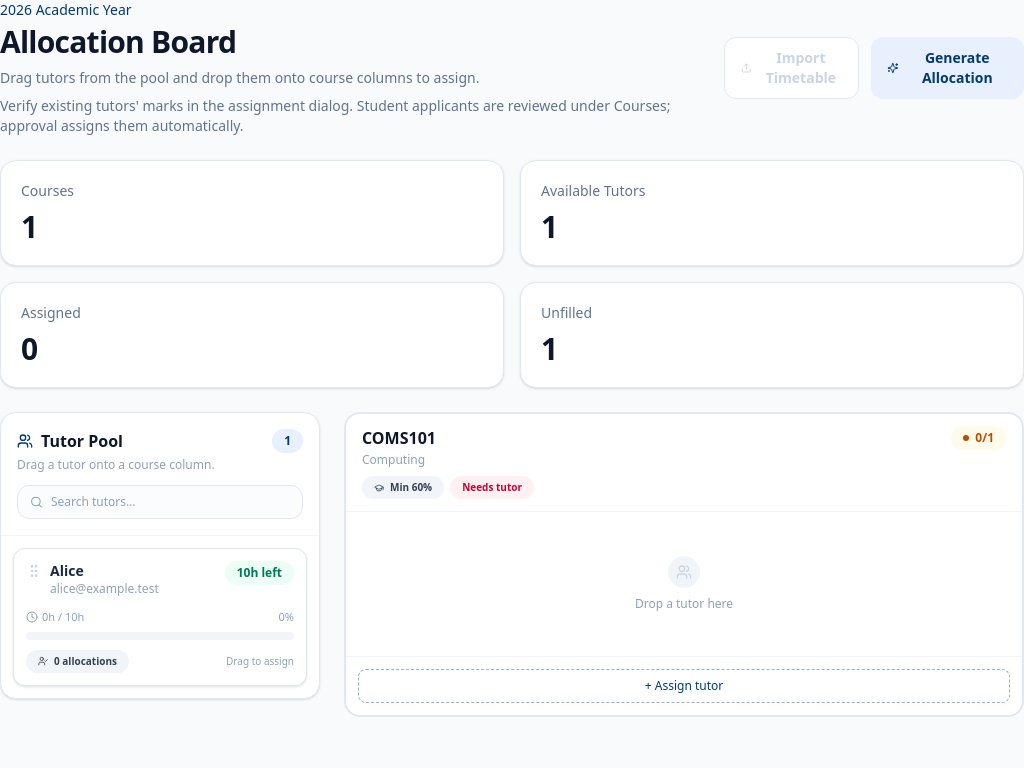
it: Allocation board verification › records a mark for a tutor who has never submitted one
Click the button "+ Assign tutor".
click(684, 686)  # box [358, 669, 1010, 703]
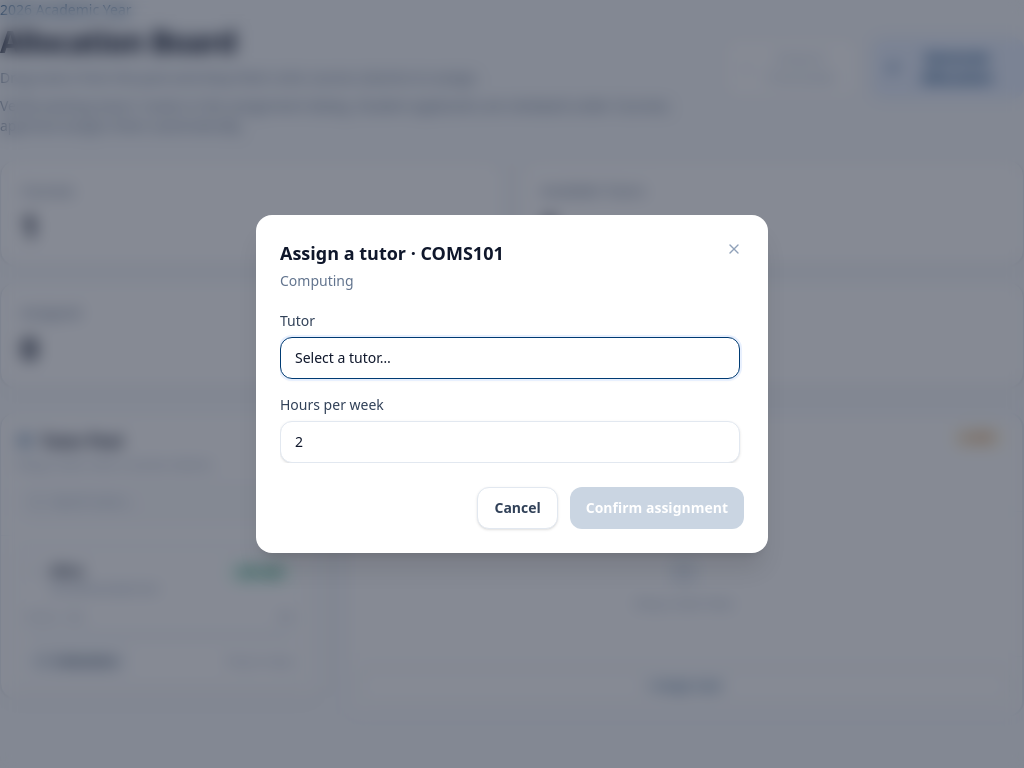
Select "Alice" in the dropdown labelled "Tutor" at (510, 358), box [280, 337, 740, 379]
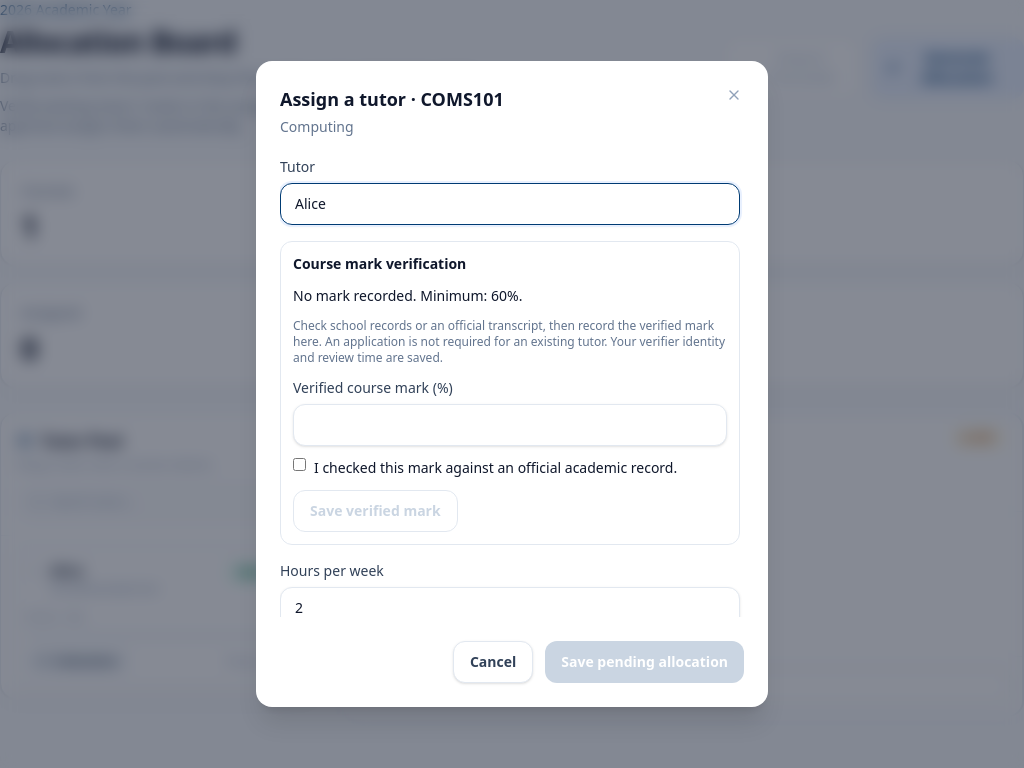
Now the text "No mark recorded. Minimum: 60%." is shown, box [293, 286, 522, 305]
Type "75" into the number field labelled "Verified course mark (%)".
click(510, 425); type("75")  # box [293, 404, 727, 446]
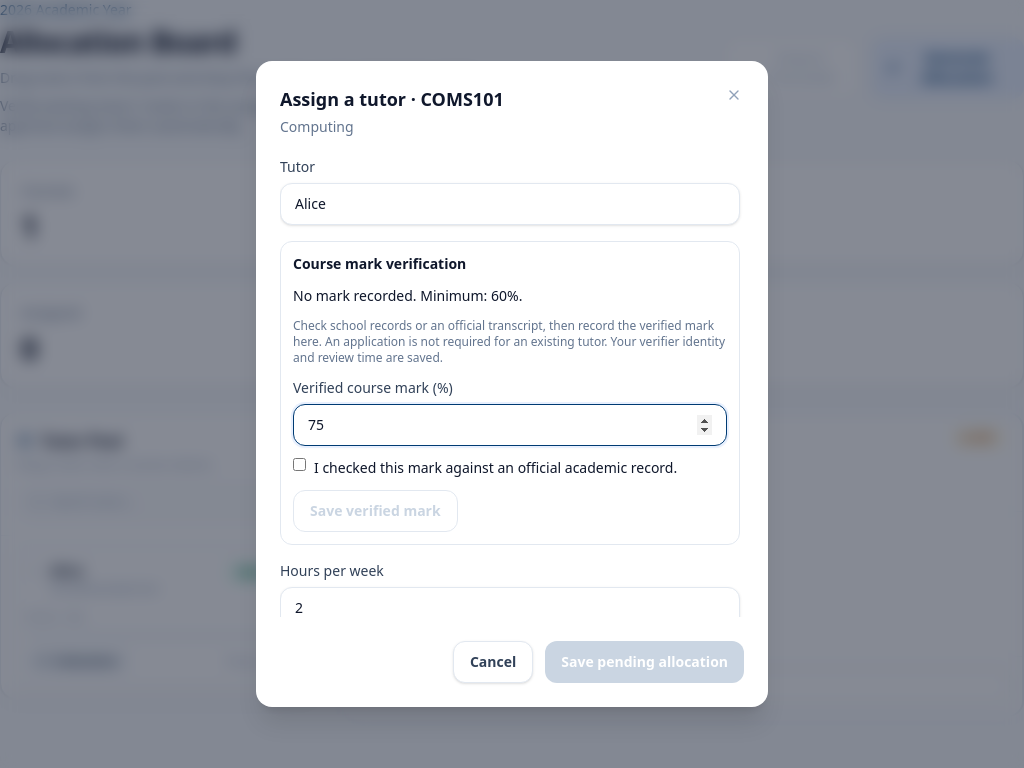
Click the checkbox.
click(300, 464)  # box [293, 458, 306, 471]
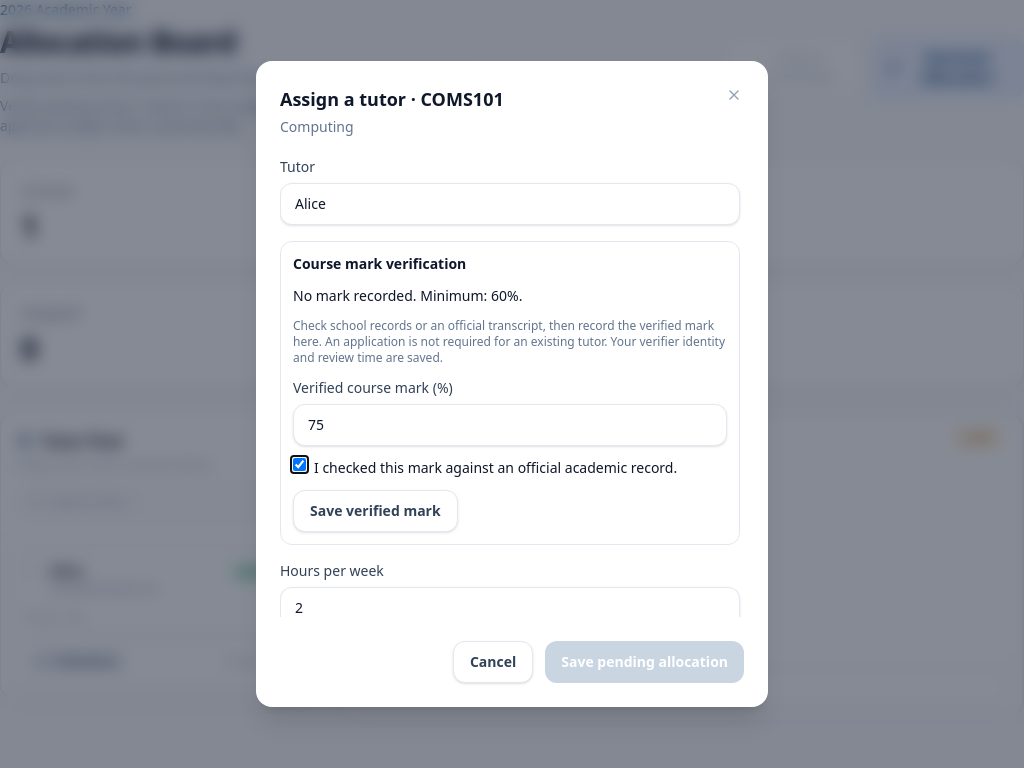
Click the button "Save verified mark".
click(375, 511)  # box [293, 490, 458, 532]
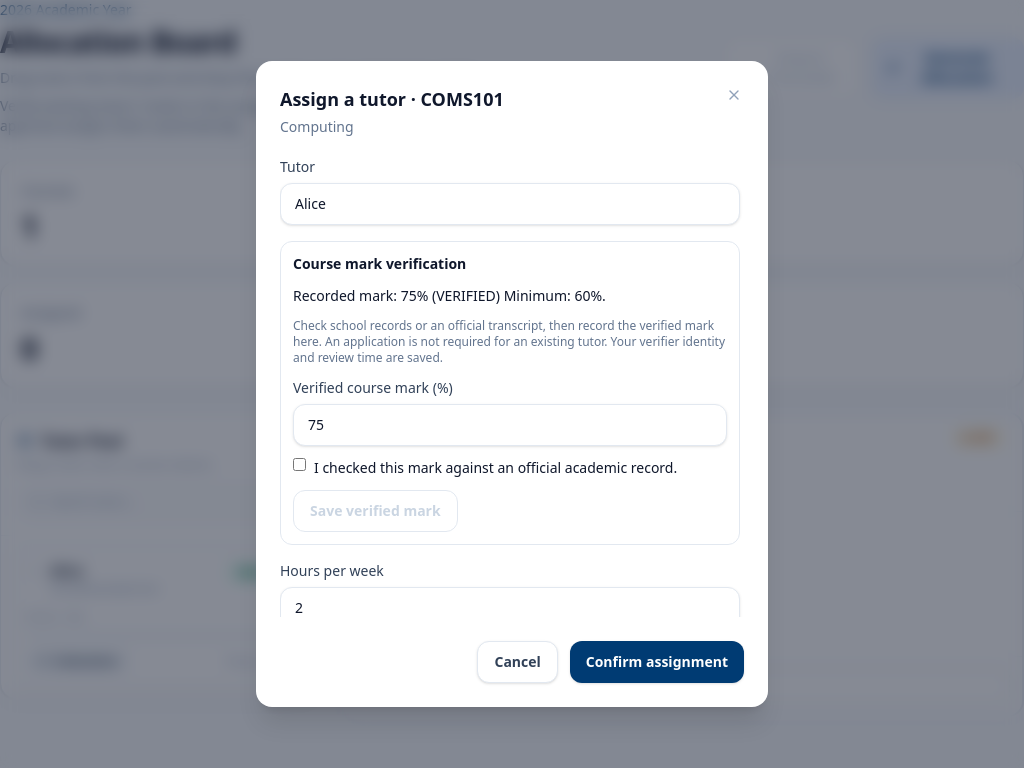
Now the button "Confirm assignment" is enabled, box [570, 641, 744, 683]
